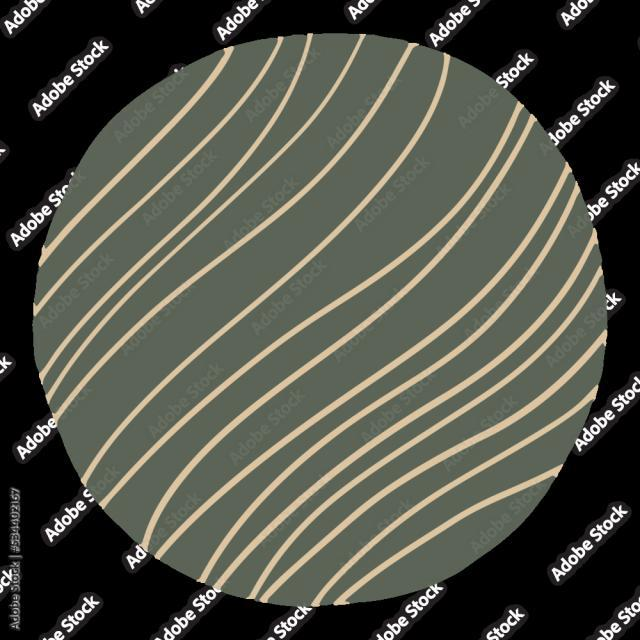Circle: (34, 32, 610, 606)
